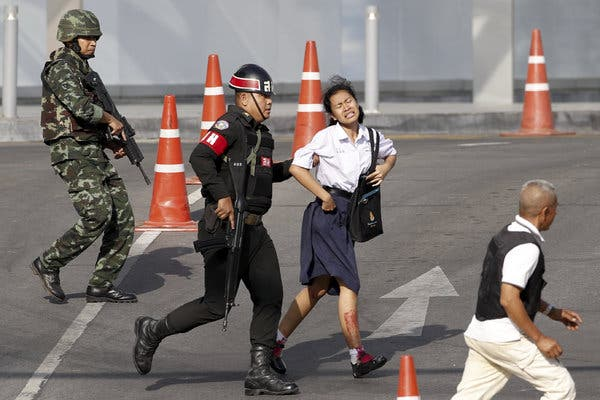Person: (133, 66, 297, 400), (27, 9, 145, 309), (284, 79, 397, 375), (450, 179, 587, 400)
